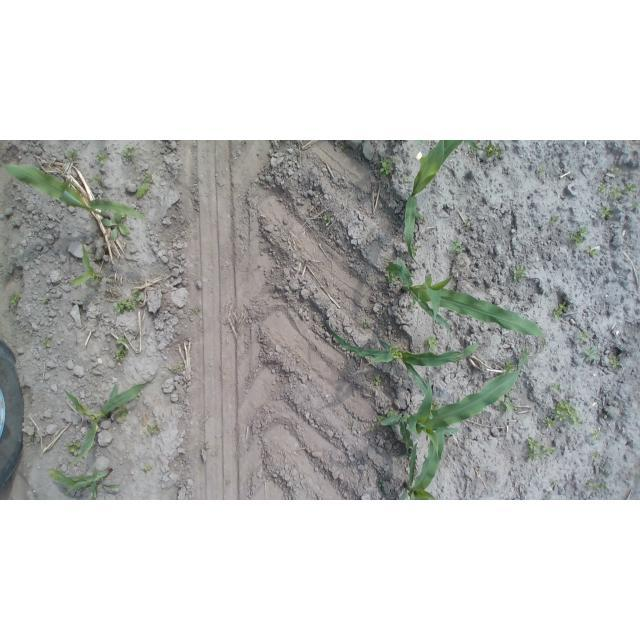Maize: (380, 348, 528, 456), (325, 320, 480, 418), (386, 256, 546, 349), (64, 373, 156, 468), (1, 162, 146, 221), (404, 141, 465, 264), (396, 428, 446, 500), (48, 466, 121, 500), (73, 239, 104, 287), (464, 140, 484, 152)
Weeds: (542, 400, 583, 429), (102, 211, 131, 239), (526, 437, 555, 462), (112, 291, 144, 313), (570, 225, 588, 248), (484, 141, 505, 160), (115, 336, 129, 363), (496, 396, 516, 412), (121, 144, 136, 163), (379, 157, 393, 176), (584, 347, 601, 362), (553, 302, 568, 319), (513, 265, 528, 282), (66, 440, 81, 456), (135, 184, 149, 201), (449, 240, 466, 253), (600, 205, 615, 219), (65, 148, 81, 161), (146, 423, 161, 436), (577, 329, 590, 343), (8, 292, 20, 307), (588, 482, 607, 491), (504, 360, 516, 374), (609, 187, 623, 199), (385, 270, 399, 282), (624, 183, 639, 194), (116, 408, 129, 420), (91, 176, 104, 188), (427, 335, 438, 349), (96, 150, 107, 164), (608, 355, 619, 368), (586, 247, 599, 258), (410, 243, 420, 257), (42, 335, 52, 349), (322, 212, 331, 227), (548, 383, 559, 394), (377, 415, 388, 426), (144, 171, 153, 183), (597, 184, 607, 194), (75, 187, 85, 197), (408, 300, 418, 309), (172, 364, 183, 372), (432, 400, 441, 409), (374, 375, 382, 385), (363, 319, 371, 328), (592, 432, 600, 441), (144, 464, 153, 472), (610, 166, 620, 173), (403, 177, 413, 184), (602, 411, 610, 419), (592, 452, 599, 461), (348, 423, 357, 430), (416, 140, 425, 146), (379, 479, 385, 488), (28, 435, 37, 441), (552, 216, 559, 223), (192, 308, 200, 314), (551, 481, 557, 488), (630, 204, 638, 209), (637, 471, 640, 481), (540, 167, 545, 173), (420, 214, 425, 220), (409, 272, 415, 277), (370, 428, 375, 433), (340, 145, 345, 150), (44, 298, 48, 303), (431, 146, 435, 149), (336, 140, 342, 142)
